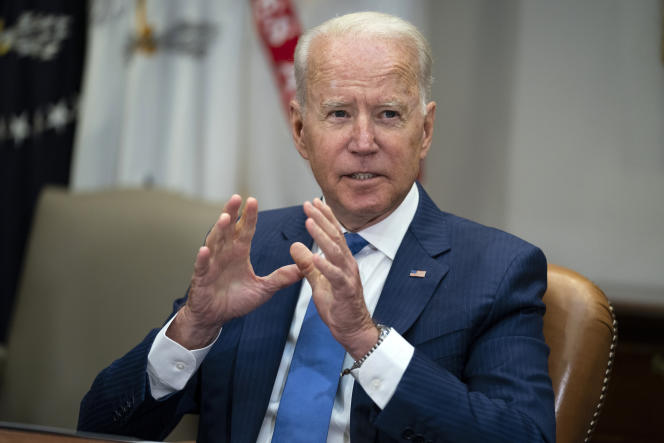with_mask: (291, 39, 437, 208)
